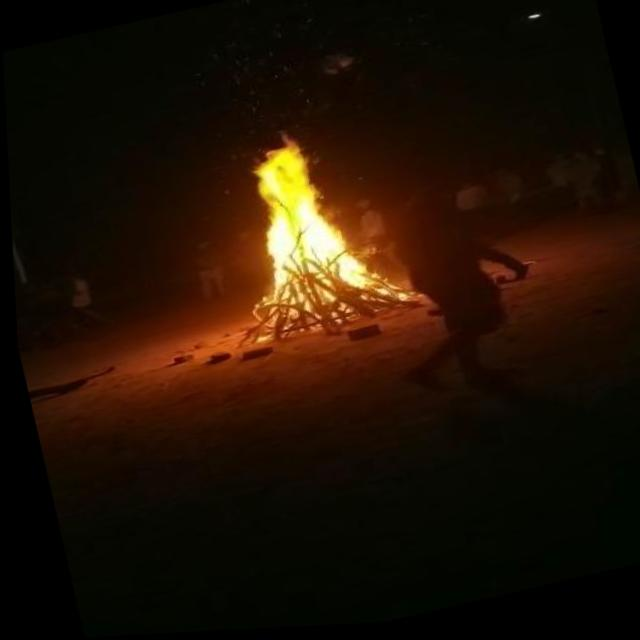fire: (201, 104, 409, 352)
